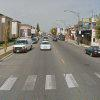Crosswalk: (8, 70, 88, 93)
